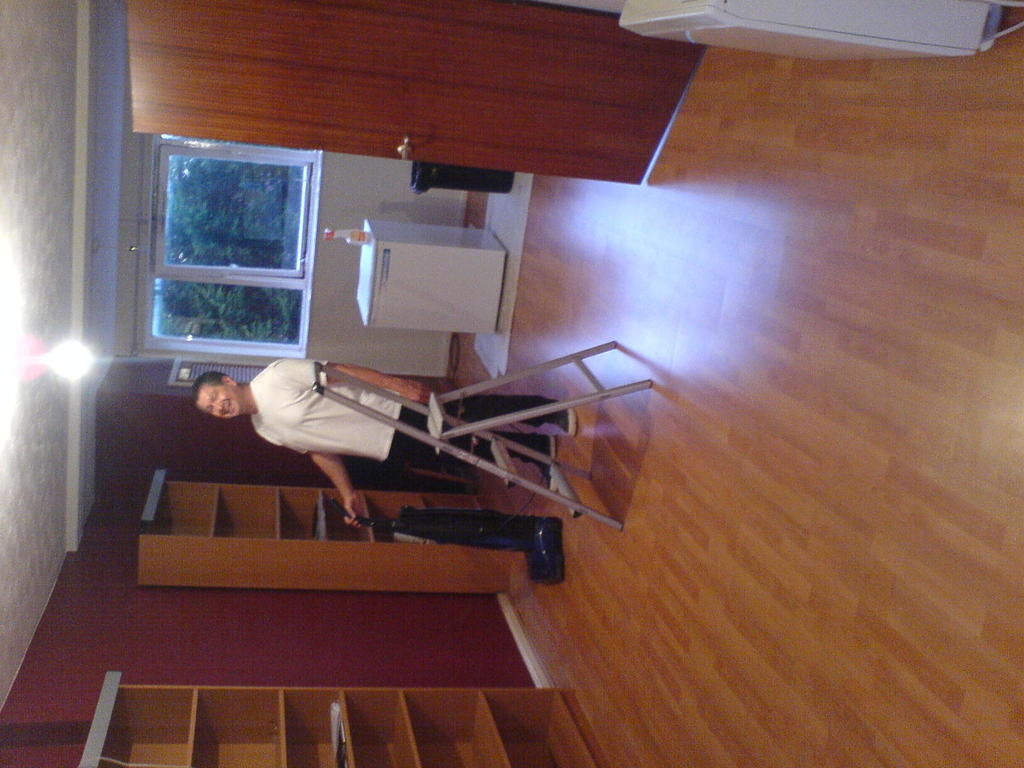Person: (191, 357, 578, 528)
